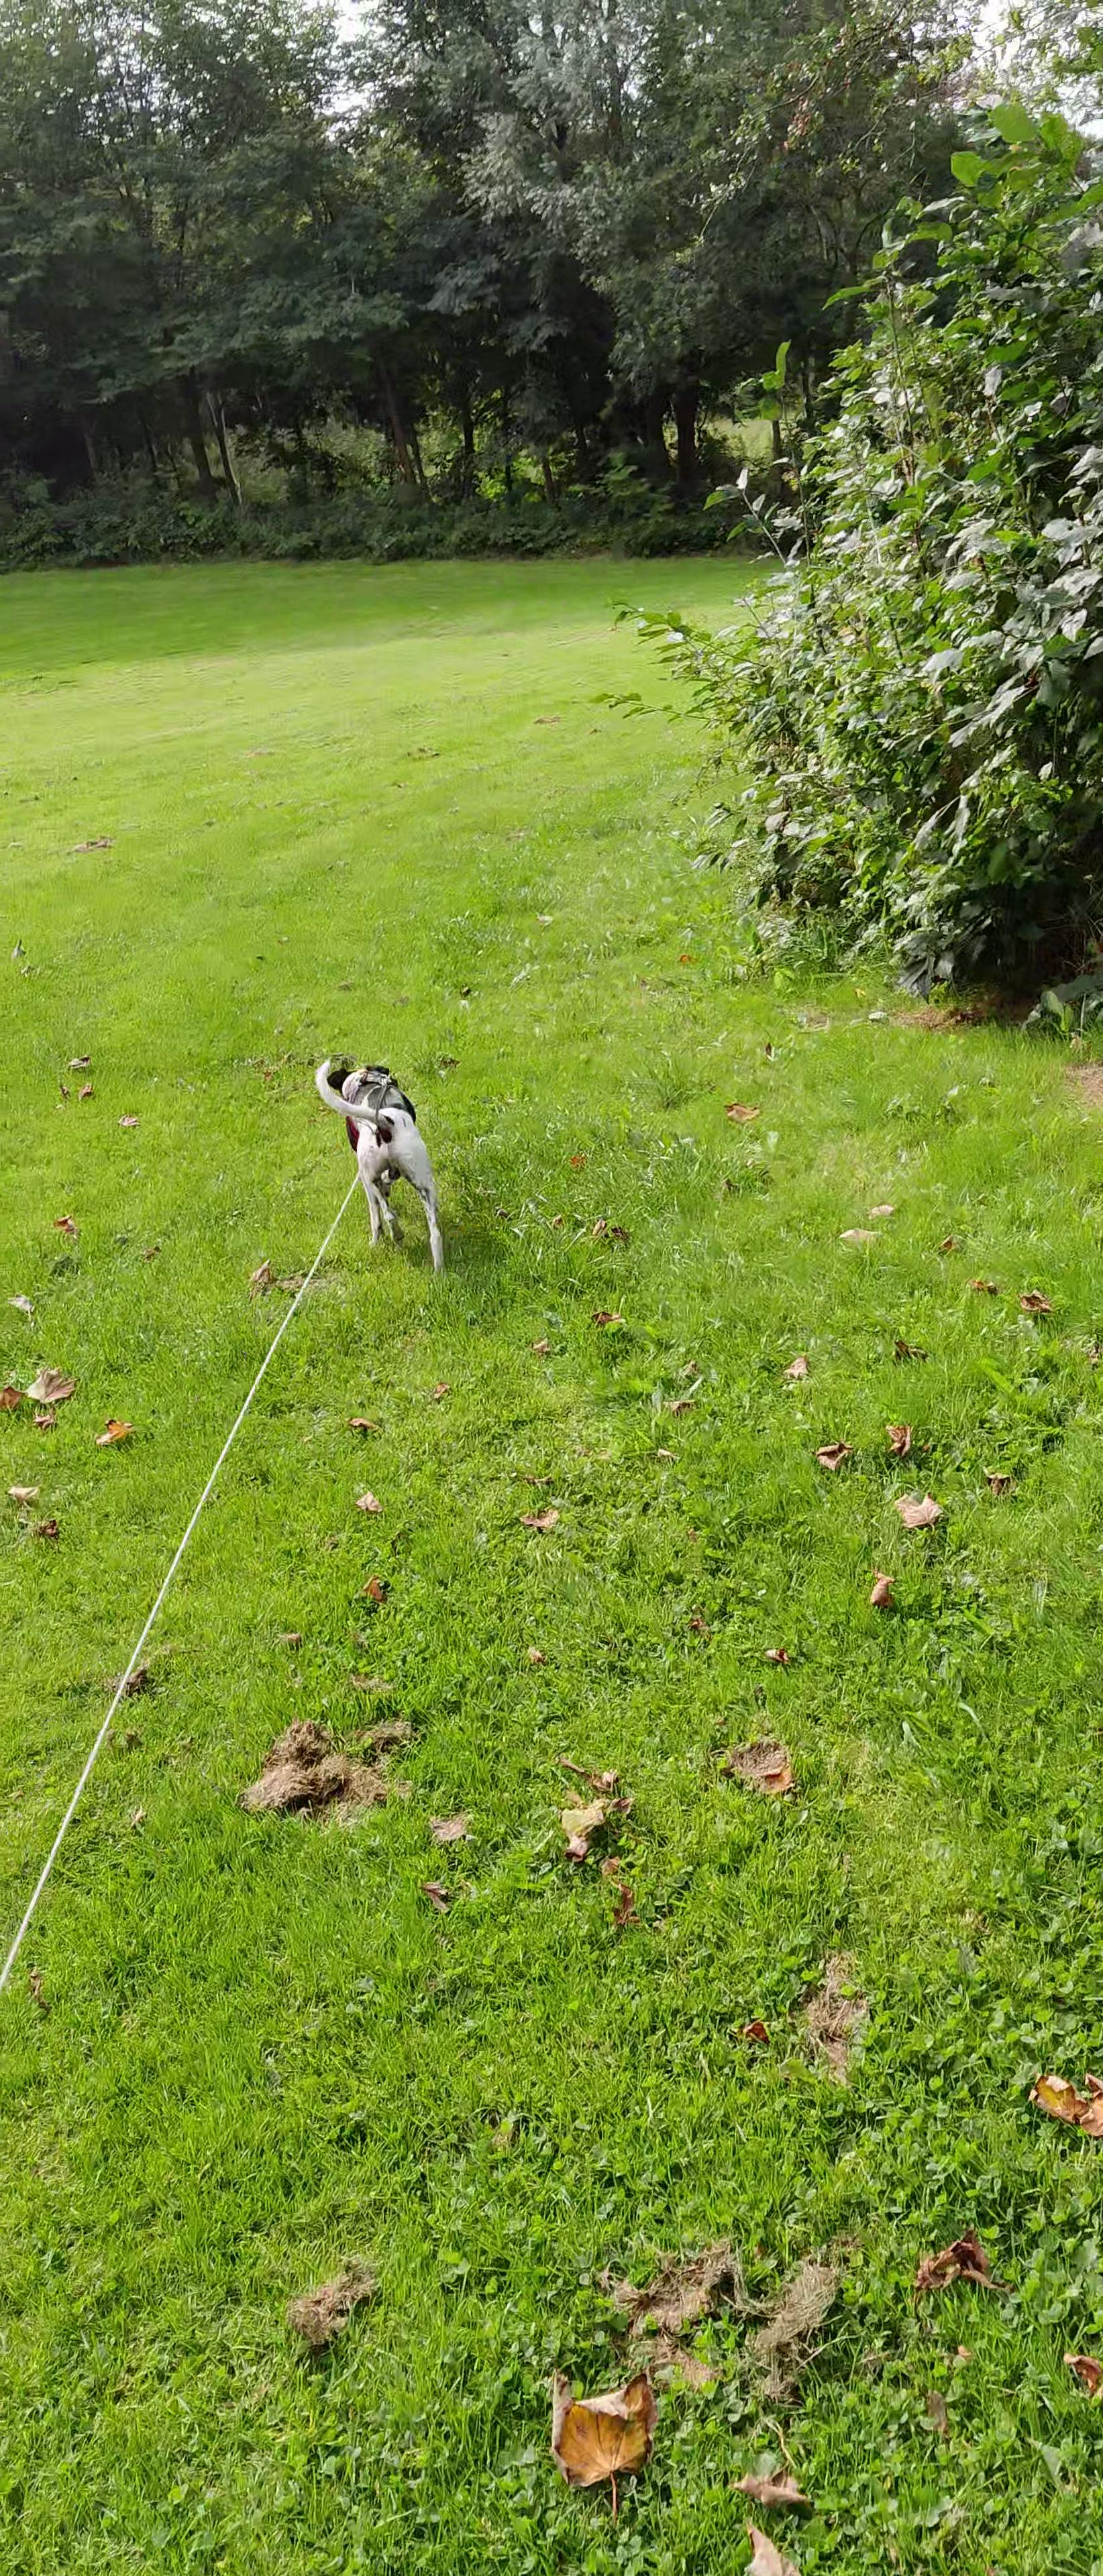Dog: (302, 1035, 464, 1291)
